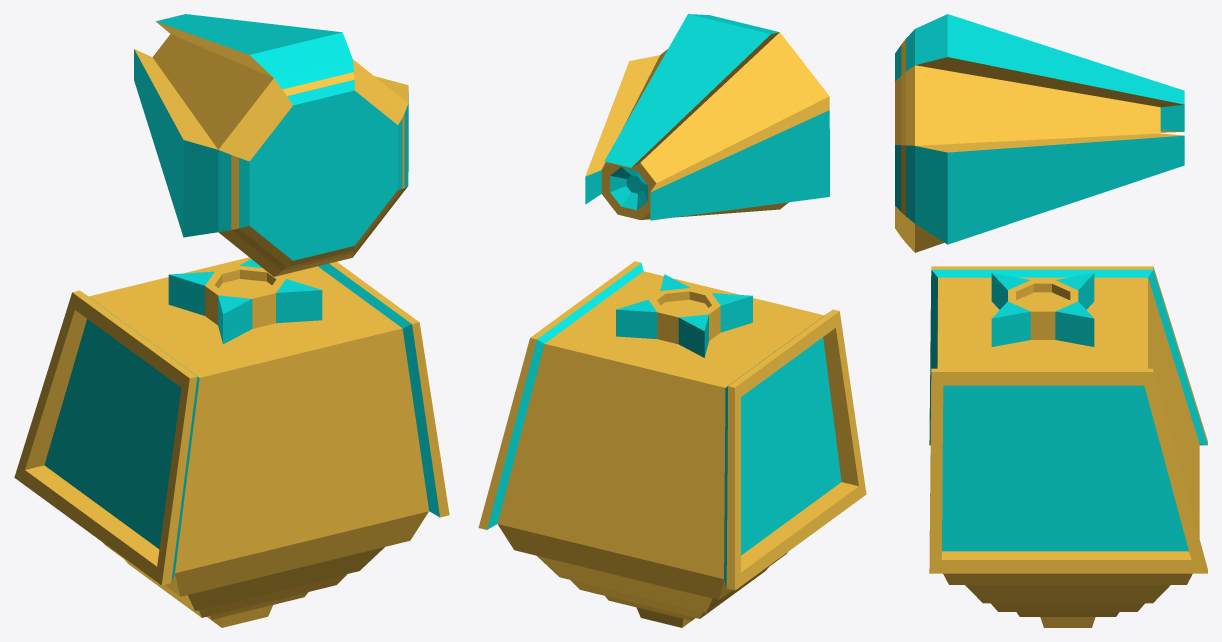
The model's file is Quek.glb.
3 views of the same model, side by side, from view 1: azimuth 30°, elevation 25°; view 2: azimuth 150°, elevation 25°; view 3: azimuth 270°, elevation 25° (orthographic). The views are drawn at different scales.
Visible parts, largest first — view 1: Body, Head; view 2: Body, Head; view 3: Body, Head.
Part boxes in pixels (box(x1,y1,x2,y2)): Body: box(14, 257, 449, 627); Head: box(134, 14, 408, 276); Body: box(478, 261, 866, 627); Head: box(585, 14, 829, 220); Body: box(929, 266, 1207, 627); Head: box(895, 14, 1184, 252).
Size of the model in its own units: 2.04 by 4.17 by 2.03.
